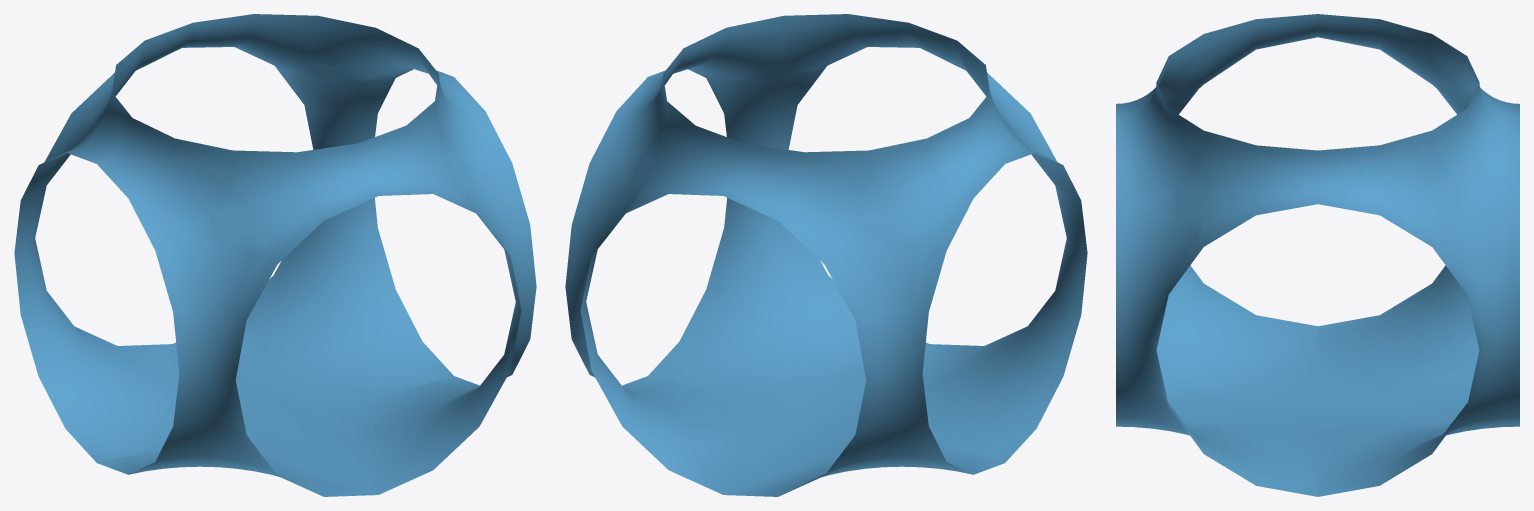
Rendered from pipe-intersection-4.obj.
3 views of the same model, side by side, from view 1: azimuth 30°, elevation 25°; view 2: azimuth 150°, elevation 25°; view 3: azimuth 270°, elevation 25° (orthographic). The views are drawn at different scales.
Parts seen in each view (by area): view 1: Torus_Torus.001; view 2: Torus_Torus.001; view 3: Torus_Torus.001.
Part boxes in pixels (x1,y1,x2,y2): Torus_Torus.001: (14,14,536,496); Torus_Torus.001: (565,14,1087,496); Torus_Torus.001: (1116,14,1519,496).
Size of the model in its own units: 1 by 0.9 by 1.
